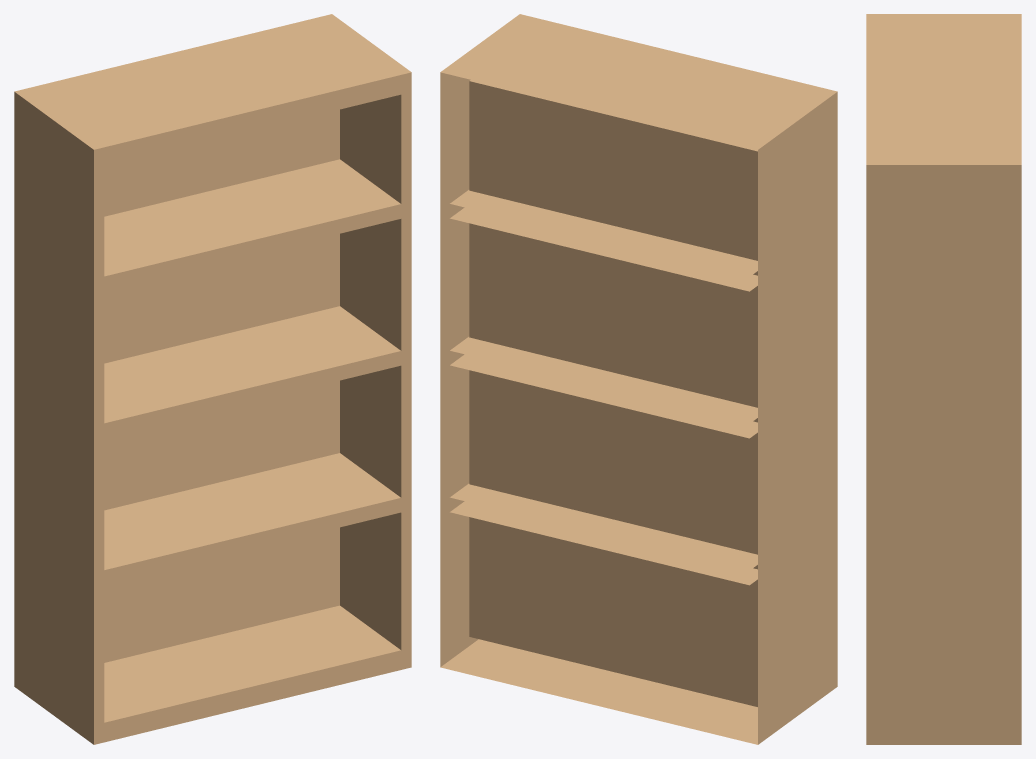
Rendered from 2 wardrobe1.fbx.
3 renders of one model, left to right at view 1: azimuth 30°, elevation 25°; view 2: azimuth 150°, elevation 25°; view 3: azimuth 270°, elevation 25°, orthographic. The views are drawn at different scales.
Parts seen in each view (by area): view 1: 2 wardrobe1; view 2: 2 wardrobe1; view 3: 2 wardrobe1.
Part boxes in pixels (left/top/right/bottom): 2 wardrobe1: left=14, top=14, right=411, bottom=744; 2 wardrobe1: left=440, top=14, right=837, bottom=744; 2 wardrobe1: left=866, top=14, right=1021, bottom=744.
Bounding box in the file's own units: 27.4 × 49.04 × 11.9.
